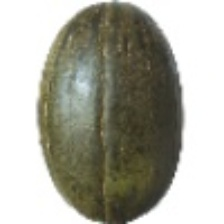honeydew: (18, 43, 172, 189)
